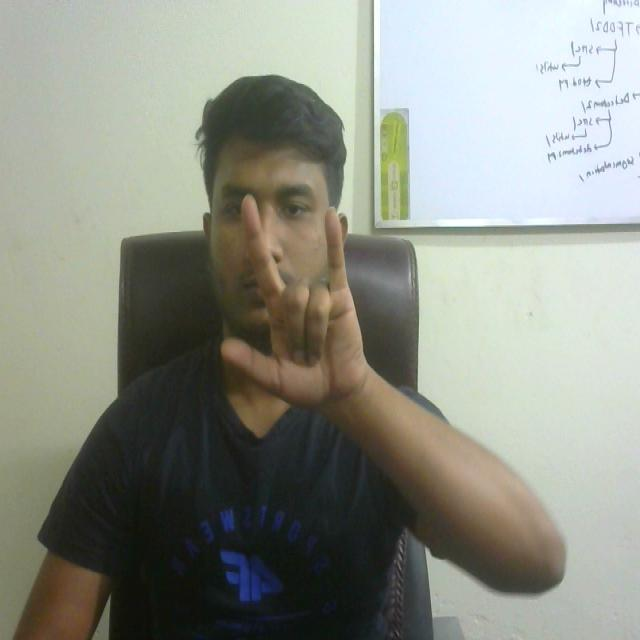B: (212, 191, 369, 417)
